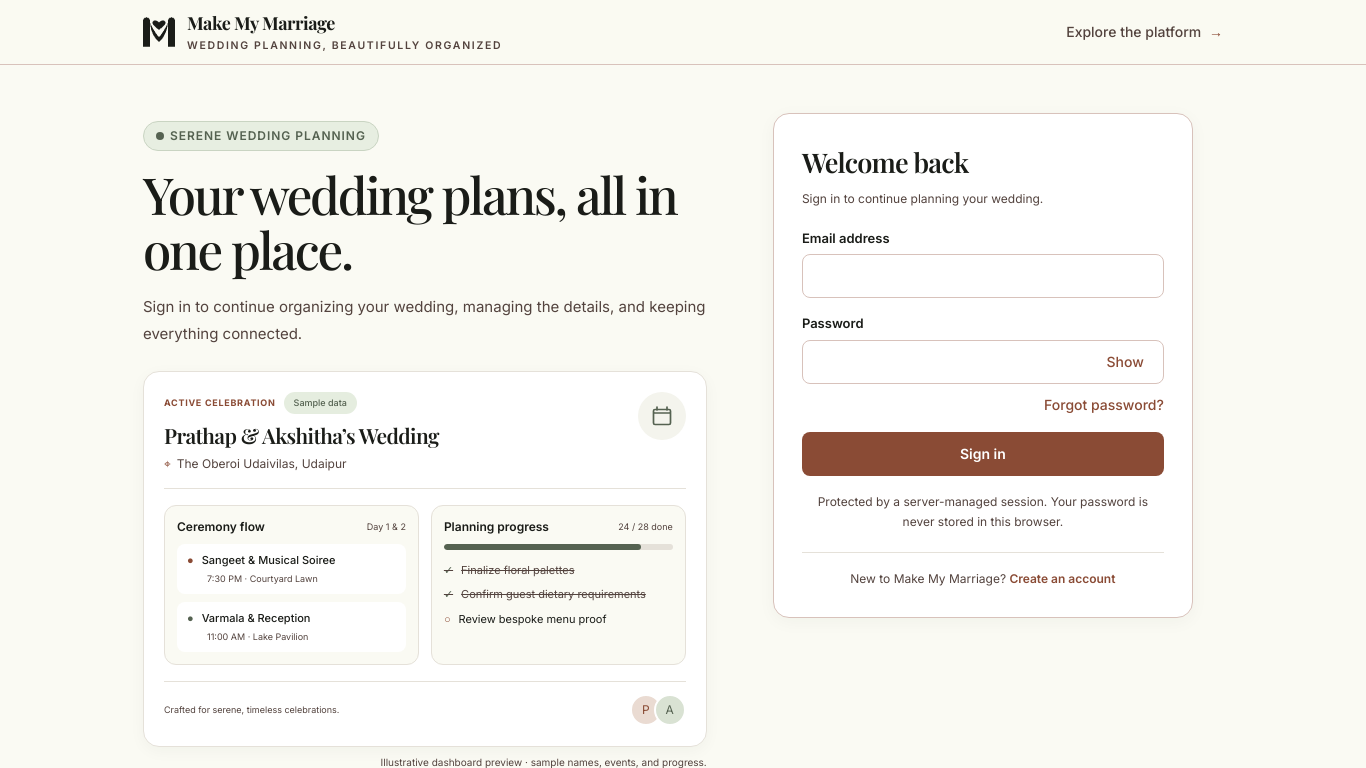
Test: authentication screens › shows invalid credentials returned by the API
This screenshot has width=1366, height=768.
Type "wrong@example.com" into the field labelled "Email address".
click(983, 276); type("wrong@example.com")  # box [802, 254, 1164, 298]
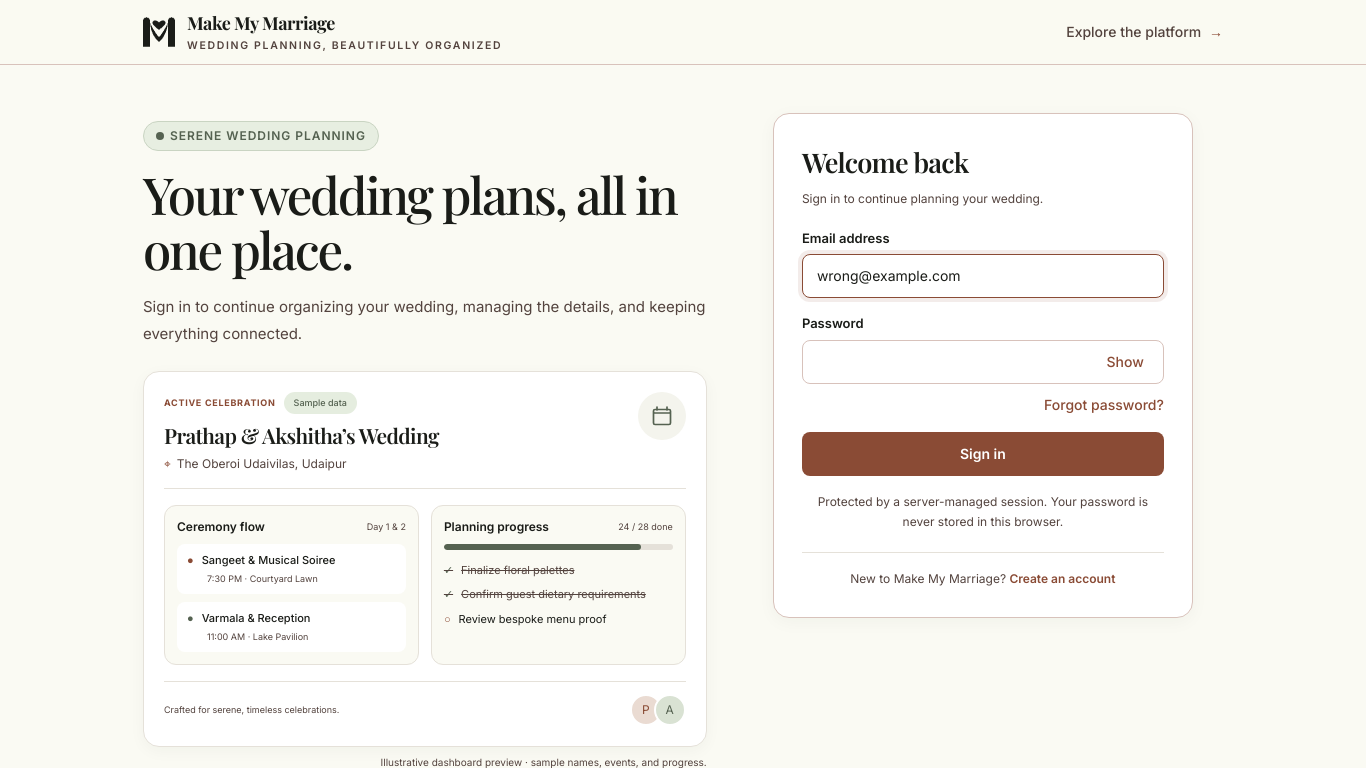
Type "incorrect-password" into the password field labelled "Password".
click(983, 362); type("incorrect-password")  # box [802, 340, 1164, 384]
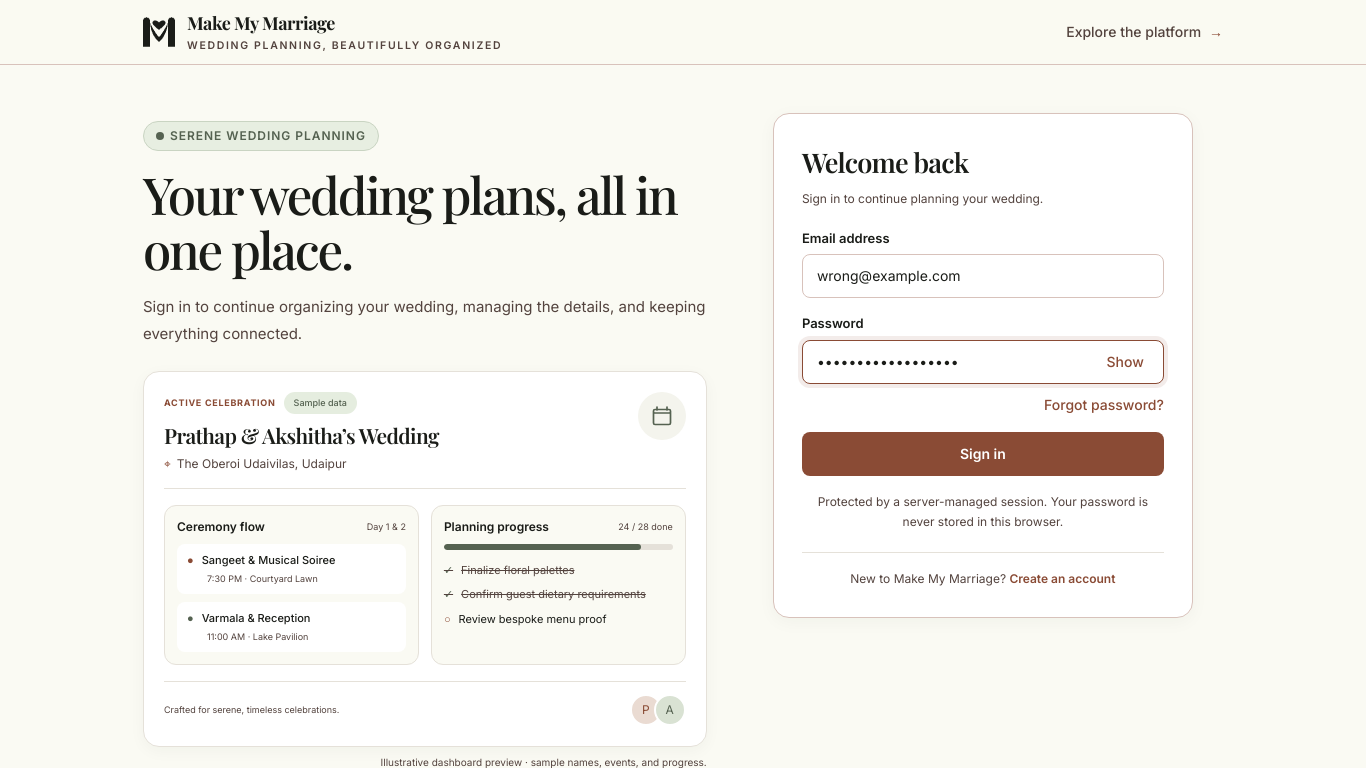
Click the button "Sign in".
click(983, 454)  # box [802, 432, 1164, 476]
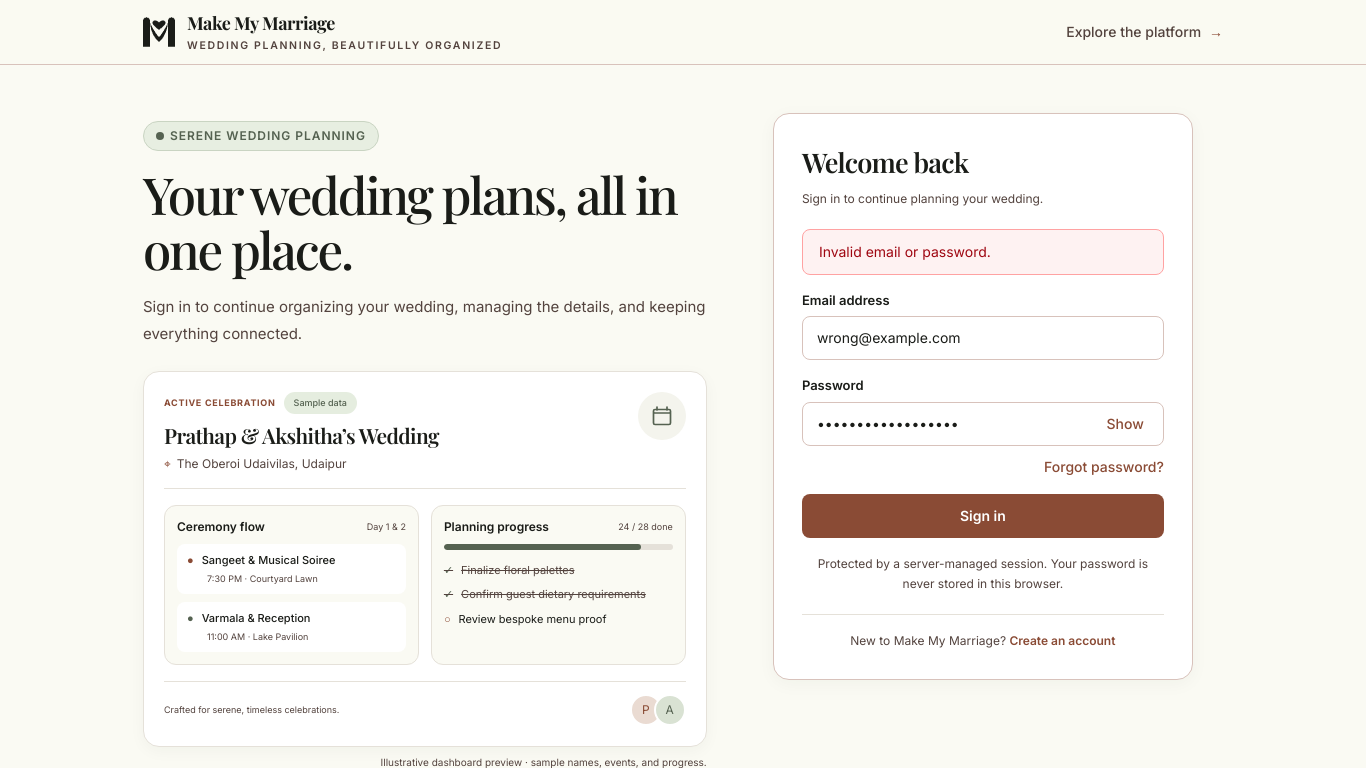
Check: the text "Invalid email or password." is shown, box [819, 242, 991, 260]
